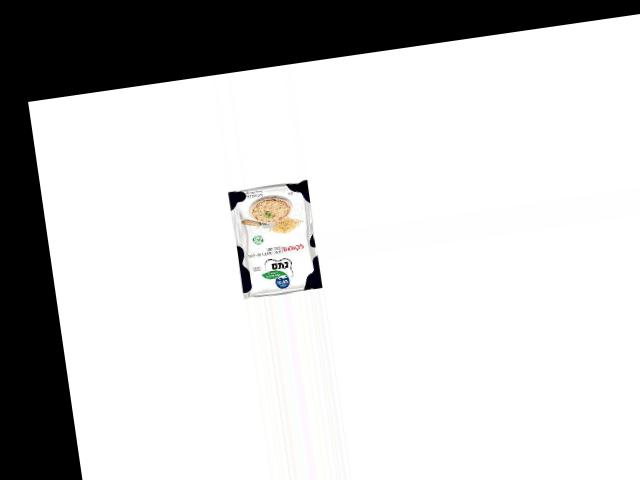cheese: (226, 177, 325, 300)
